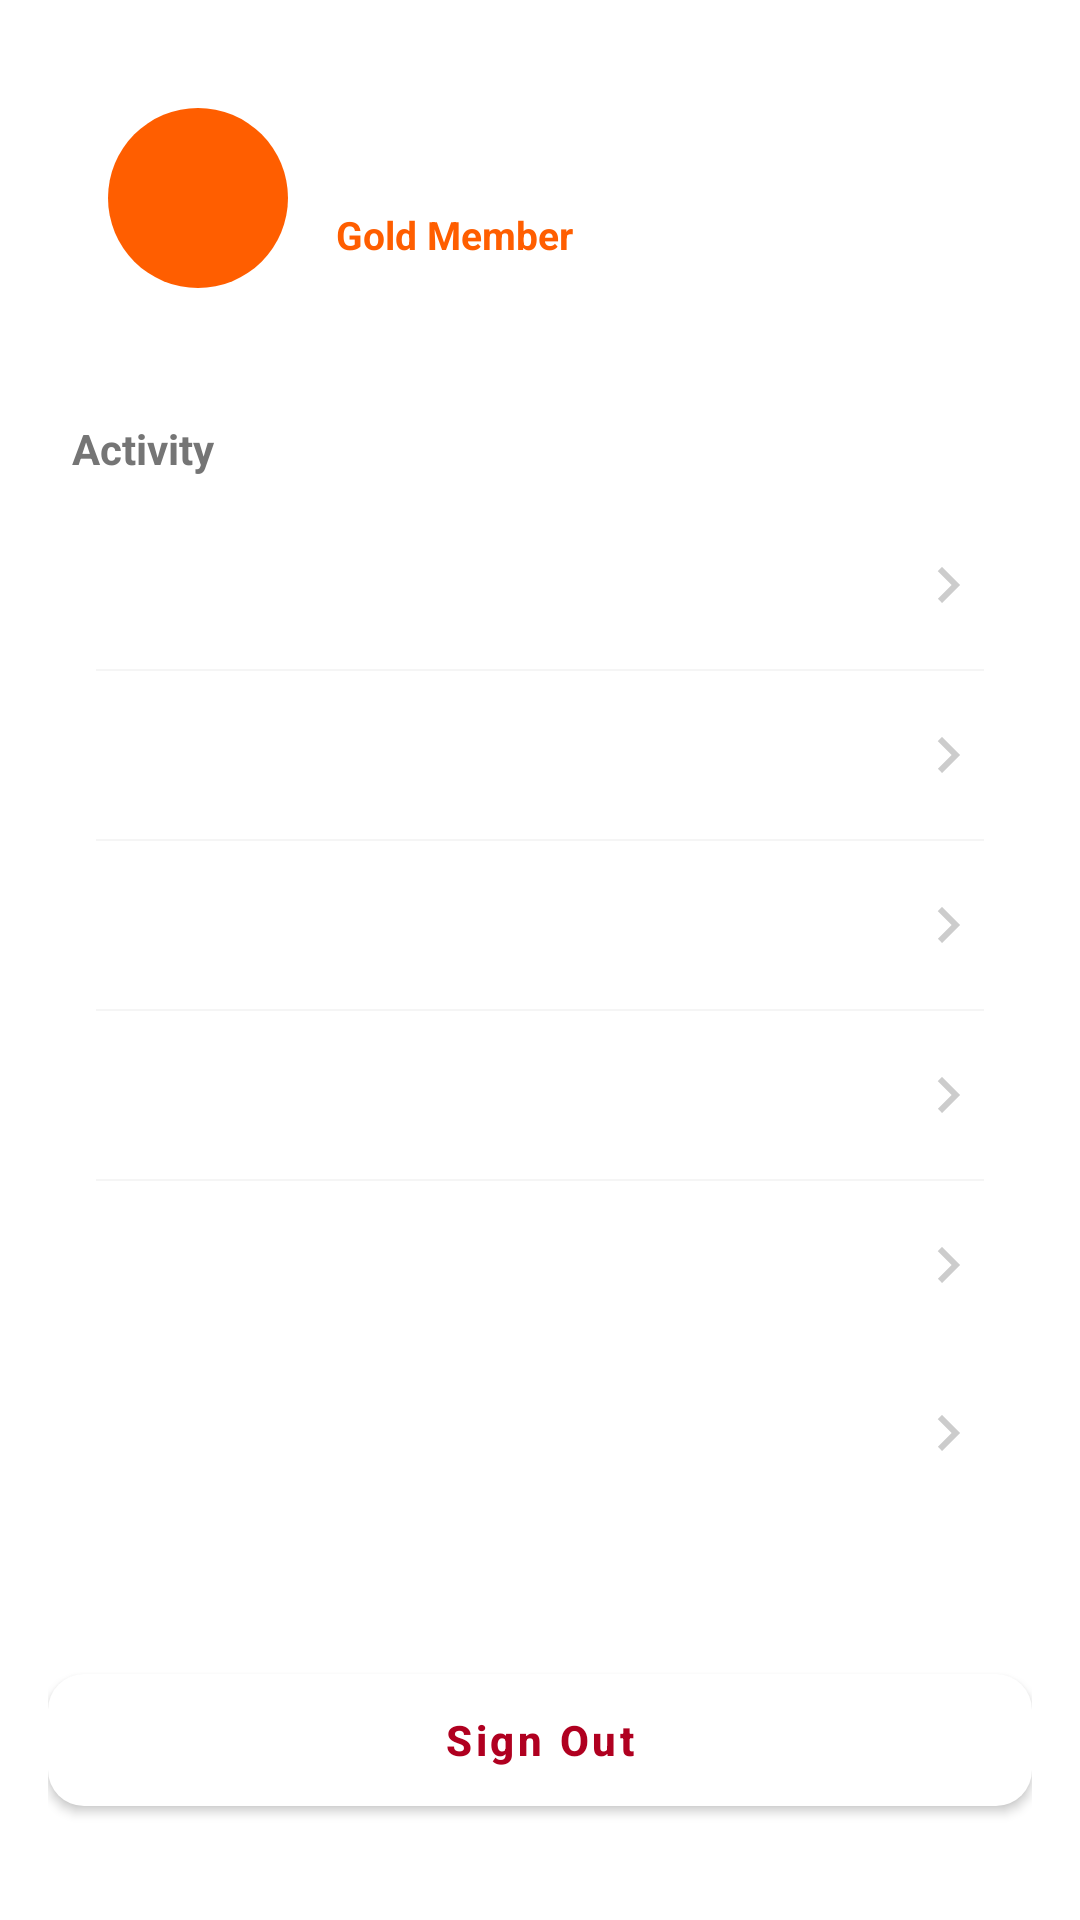

Icon bounding boxes for this 1080×1920 phone screenshot, format (x1, y1, x2, y2):
arrow right: (938, 567, 960, 603), (938, 737, 960, 773), (938, 907, 960, 943), (938, 1077, 960, 1113), (938, 1247, 960, 1283), (938, 1415, 960, 1451)
